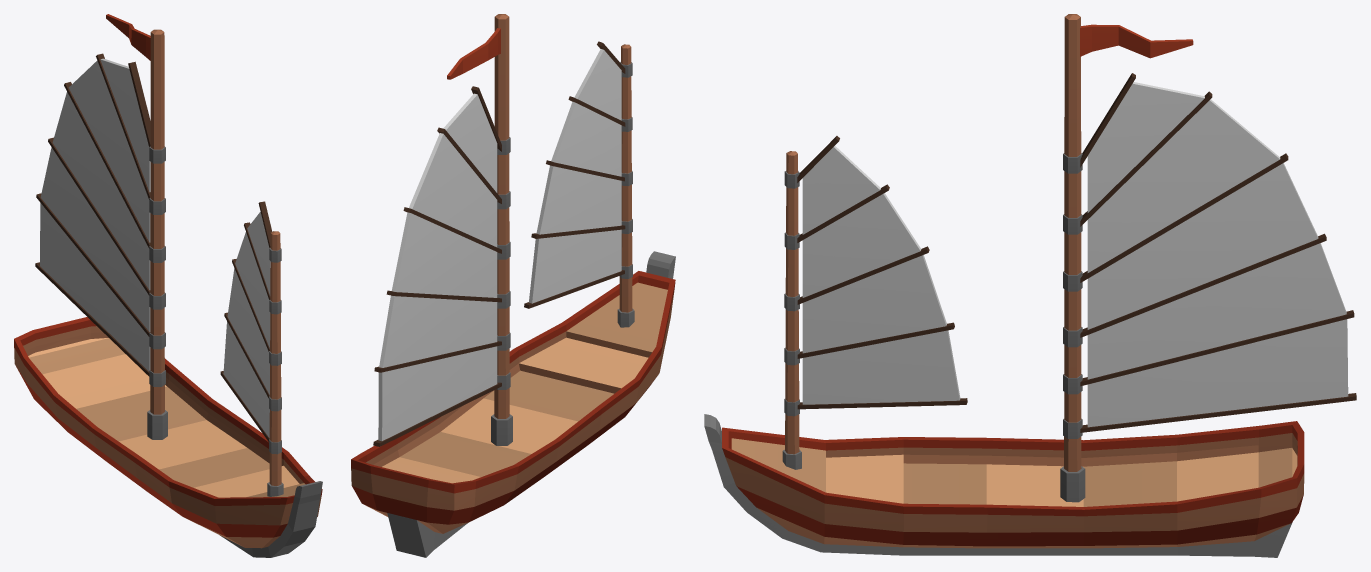
The model's file is chinese-ship-small.glb.
3 renders of one model, left to right at view 1: azimuth 30°, elevation 25°; view 2: azimuth 150°, elevation 25°; view 3: azimuth 270°, elevation 25°, orthographic. The views are drawn at different scales.
Parts seen in each view (by area): view 1: chinese ship small; view 2: chinese ship small; view 3: chinese ship small.
Part boxes in pixels (<box>): chinese ship small: <box>14,14,322,557</box>; chinese ship small: <box>351,14,675,557</box>; chinese ship small: <box>704,14,1356,557</box>.
Size of the model in its own units: 5.2 by 18.63 by 20.59.
1 material, 1 textured.
